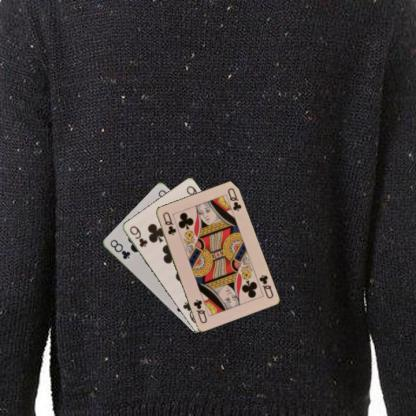8c: (108, 237, 131, 260)
9c: (126, 223, 148, 248)
Qc: (256, 272, 274, 300), (160, 209, 177, 236)
